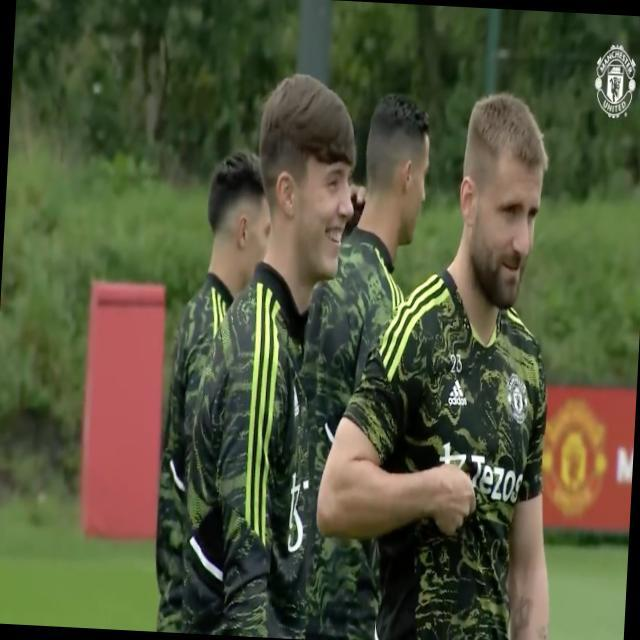Adidas: (448, 375, 469, 410)
